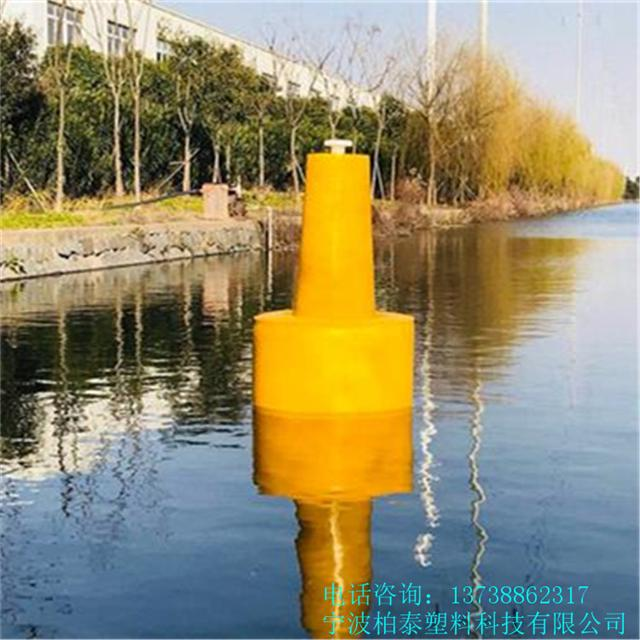buoy: (246, 136, 422, 427)
